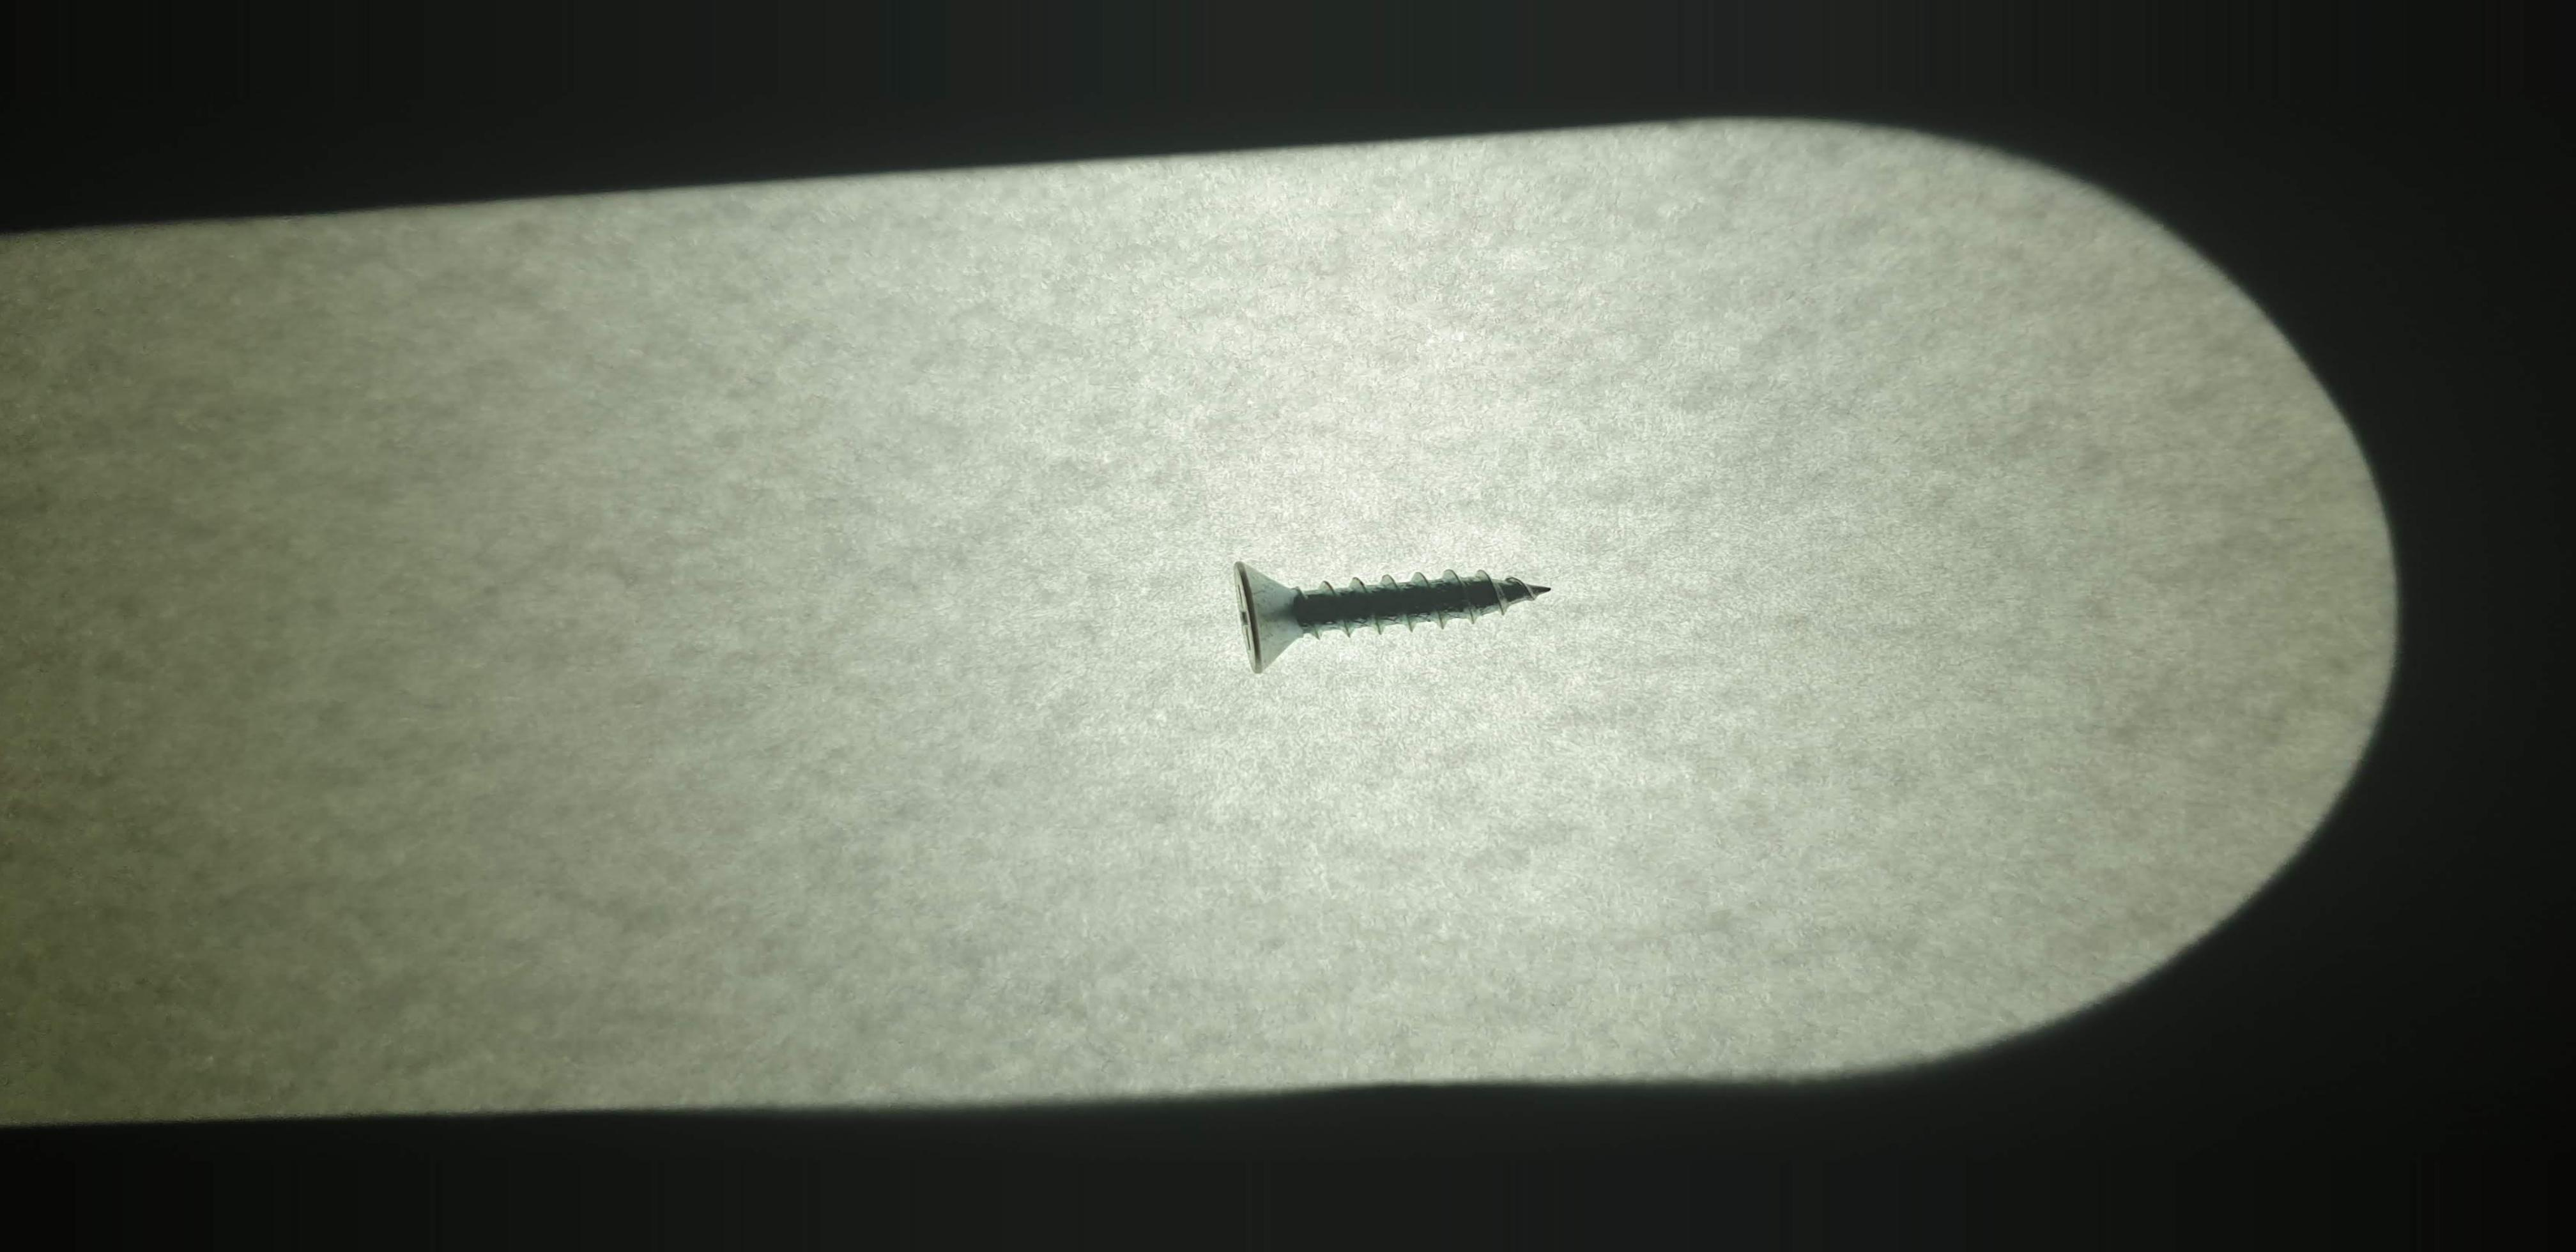S003: (1204, 524, 1598, 721)
